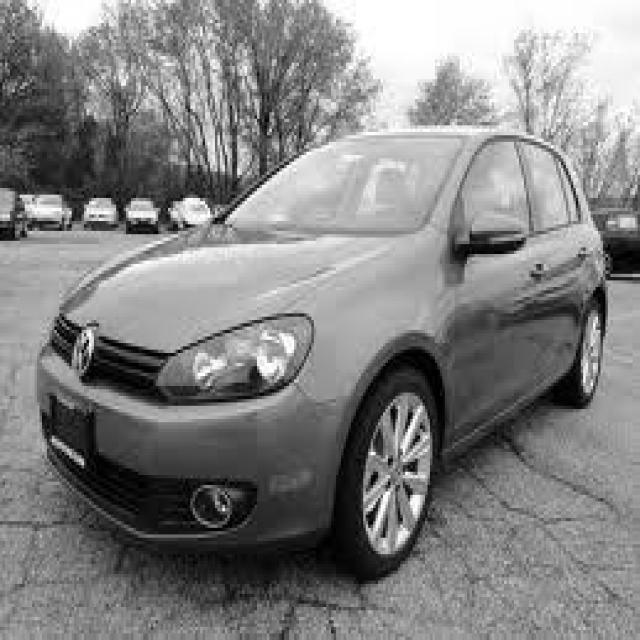car: (34, 122, 608, 581), (29, 191, 72, 228), (165, 195, 212, 228), (0, 185, 27, 238), (124, 195, 160, 231), (82, 195, 118, 228)
